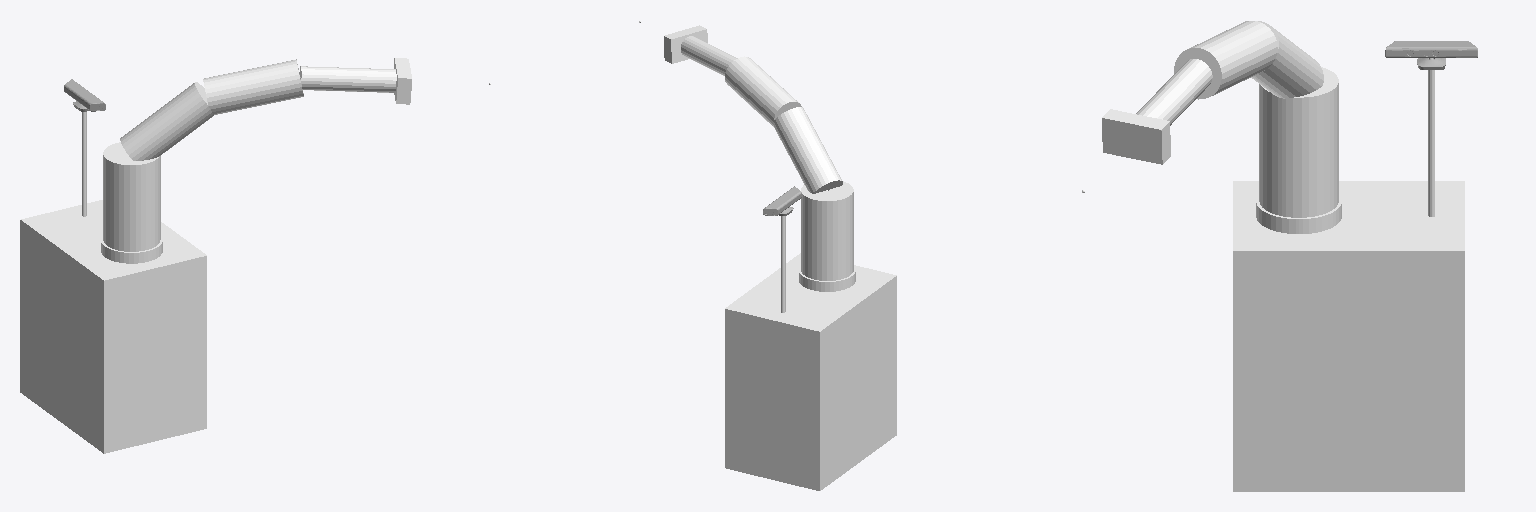
robot.urdf — cougarbot_sw2urdf:
<robot
  name="cougarbot_sw2urdf">
  <link
    name="base">
    <inertial>
      <origin
        xyz="-4.58049603537686E-17 -1.1498738469332E-16 0.4"
        rpy="0 0 0" />
      <mass
        value="280" />
      <inertia
        ixx="26.3666666666667"
        ixy="-2.53130849614536E-15"
        ixz="6.697891400224E-32"
        iyy="20.7666666666667"
        iyz="2.51650552248369E-16"
        izz="17.2666666666667" />
    </inertial>
    <visual>
      <origin
        xyz="0 0 0"
        rpy="0 0 0" />
      <geometry>
        <mesh
          filename="package://cougarbot_sw2urdf/meshes/base.STL" />
      </geometry>
      <material
        name="">
        <color
          rgba="1 1 1 1" />
      </material>
    </visual>
    <collision>
      <origin
        xyz="0 0 0"
        rpy="0 0 0" />
      <geometry>
        <mesh
          filename="package://cougarbot_sw2urdf/meshes/base.STL" />
      </geometry>
    </collision>
  </link>
  <link
    name="rack">
    <inertial>
      <origin
        xyz="-5.31932292919011E-19 0 0.25"
        rpy="0 0 0" />
      <mass
        value="0.15707963267949" />
      <inertia
        ixx="0.00327641933830635"
        ixy="0"
        ixz="-2.52757298433515E-52"
        iyy="0.00327641933830635"
        iyz="-7.588784500269E-37"
        izz="7.85398163397448E-06" />
    </inertial>
    <visual>
      <origin
        xyz="0 0 0"
        rpy="0 0 0" />
      <geometry>
        <mesh
          filename="package://cougarbot_sw2urdf/meshes/rack.STL" />
      </geometry>
      <material
        name="">
        <color
          rgba="1 1 1 1" />
      </material>
    </visual>
    <collision>
      <origin
        xyz="0 0 0"
        rpy="0 0 0" />
      <geometry>
        <mesh
          filename="package://cougarbot_sw2urdf/meshes/rack.STL" />
      </geometry>
    </collision>
  </link>
  <joint
    name="fixed_rack"
    type="fixed">
    <origin
      xyz="0 0.25 0.8"
      rpy="0 0 0" />
    <parent
      link="base" />
    <child
      link="rack" />
    <axis
      xyz="0 0 0" />
  </joint>
  <link
    name="camera">
    <inertial>
      <origin
        xyz="-0.0294947233503947 5.82991399987742E-05 -0.00210745084696717"
        rpy="0 0 0" />
      <mass
        value="0.558921619084291" />
      <inertia
        ixx="0.00293323328134704"
        ixy="-9.33465490301262E-07"
        ixz="-5.72128548880662E-06"
        iyy="0.000231766967567304"
        iyz="-6.72424296962743E-08"
        izz="0.00302678311799815" />
    </inertial>
    <visual>
      <origin
        xyz="0 0 0"
        rpy="0 0 0" />
      <geometry>
        <mesh
          filename="package://cougarbot_sw2urdf/meshes/camera.STL" />
      </geometry>
      <material
        name="">
        <color
          rgba="0.752941176470588 0.752941176470588 0.752941176470588 1" />
      </material>
    </visual>
    <collision>
      <origin
        xyz="0 0 0"
        rpy="0 0 0" />
      <geometry>
        <mesh
          filename="package://cougarbot_sw2urdf/meshes/camera.STL" />
      </geometry>
    </collision>
  </link>
  <joint
    name="camera_joint"
    type="fixed">
    <origin
      xyz="0.026845 0 0.5535"
      rpy="-2.841E-17 0 0" />
    <parent
      link="rack" />
    <child
      link="camera" />
    <axis
      xyz="0 0 0" />
  </joint>
  <link
    name="camera_rgbd_frame" />
  <joint
    name="camera_rgbd_frame_joint"
    type="fixed">
    <origin
      xyz="0 0 0"
      rpy="-1.5708 2.841E-17 -1.5708" />
    <parent
      link="camera" />
    <child
      link="camera_rgbd_frame" />
    <axis
      xyz="0 0 0" />
  </joint>
  <link
    name="base_link">
    <inertial>
      <origin
        xyz="1.55035718607044E-18 -2.77555756156289E-17 0.025"
        rpy="0 0 0" />
      <mass
        value="2.65464579228338" />
      <inertia
        ixx="0.011768929679123"
        ixy="-3.85185988877447E-34"
        ixz="0"
        iyy="0.011768929679123"
        iyz="0"
        izz="0.0224317569447945" />
    </inertial>
    <visual>
      <origin
        xyz="0 0 0"
        rpy="0 0 0" />
      <geometry>
        <mesh
          filename="package://cougarbot_sw2urdf/meshes/base_link.STL" />
      </geometry>
      <material
        name="">
        <color
          rgba="1 1 1 1" />
      </material>
    </visual>
    <collision>
      <origin
        xyz="0 0 0"
        rpy="0 0 0" />
      <geometry>
        <mesh
          filename="package://cougarbot_sw2urdf/meshes/base_link.STL" />
      </geometry>
    </collision>
  </link>
  <joint
    name="fixed_base"
    type="fixed">
    <origin
      xyz="0 -0.15 0.8"
      rpy="0 0 -2.22044604925031E-16" />
    <parent
      link="base" />
    <child
      link="base_link" />
    <axis
      xyz="0 0 0" />
  </joint>
  <link
    name="torso">
    <inertial>
      <origin
        xyz="3.35686345799579E-19 0 0.2"
        rpy="0 0 0" />
      <mass
        value="18.0938065388096" />
      <inertia
        ixx="0.306349903760852"
        ixy="-3.94357854772437E-09"
        ixz="-1.16008335330836E-17"
        iyy="0.306349897413123"
        iyz="5.75130931311888E-18"
        izz="0.130288090952972" />
    </inertial>
    <visual>
      <origin
        xyz="0 0 0"
        rpy="0 0 0" />
      <geometry>
        <mesh
          filename="package://cougarbot_sw2urdf/meshes/torso.STL" />
      </geometry>
      <material
        name="">
        <color
          rgba="1 1 1 1" />
      </material>
    </visual>
    <collision>
      <origin
        xyz="0 0 0"
        rpy="0 0 0" />
      <geometry>
        <mesh
          filename="package://cougarbot_sw2urdf/meshes/torso.STL" />
      </geometry>
    </collision>
  </link>
  <joint
    name="hip"
    type="revolute">
    <origin
      xyz="0 0 0.05"
      rpy="0 0 0" />
    <parent
      link="base_link" />
    <child
      link="torso" />
    <axis
      xyz="0 0 1" />
    <limit
      lower="-1.57"
      upper="1.57"
      effort="0"
      velocity="0" />
  </joint>
  <link
    name="upper_arm">
    <inertial>
      <origin
        xyz="-1.11022302462516E-16 -2.77555756156289E-17 0.2"
        rpy="0 0 0" />
      <mass
        value="8.04071004732223" />
      <inertia
        ixx="0.120032517340225"
        ixy="0"
        ixz="8.67361737988404E-19"
        iyy="0.120032507215952"
        iyz="1.04083408558608E-17"
        izz="0.0257358874415033" />
    </inertial>
    <visual>
      <origin
        xyz="0 0 0"
        rpy="0 0 0" />
      <geometry>
        <mesh
          filename="package://cougarbot_sw2urdf/meshes/upper_arm.STL" />
      </geometry>
      <material
        name="">
        <color
          rgba="1 1 1 1" />
      </material>
    </visual>
    <collision>
      <origin
        xyz="0 0 0"
        rpy="0 0 0" />
      <geometry>
        <mesh
          filename="package://cougarbot_sw2urdf/meshes/upper_arm.STL" />
      </geometry>
    </collision>
  </link>
  <joint
    name="shoulder"
    type="revolute">
    <origin
      xyz="0 0 0.4"
      rpy="-7.6374E-16 0.90484 -0.44656" />
    <parent
      link="torso" />
    <child
      link="upper_arm" />
    <axis
      xyz="0 1 0" />
    <limit
      lower="-1.57"
      upper="1.57"
      effort="0"
      velocity="0" />
  </joint>
  <link
    name="lower_arm">
    <inertial>
      <origin
        xyz="2.22044604925031E-16 -1.11022302462516E-16 0.2"
        rpy="0 0 0" />
      <mass
        value="8.04071004732222" />
      <inertia
        ixx="0.120032517340225"
        ixy="3.46944695195361E-18"
        ixz="-2.10335221462188E-17"
        iyy="0.120032507215952"
        iyz="8.67361737988404E-18"
        izz="0.0257358874415032" />
    </inertial>
    <visual>
      <origin
        xyz="0 0 0"
        rpy="0 0 0" />
      <geometry>
        <mesh
          filename="package://cougarbot_sw2urdf/meshes/lower_arm.STL" />
      </geometry>
      <material
        name="">
        <color
          rgba="1 1 1 1" />
      </material>
    </visual>
    <collision>
      <origin
        xyz="0 0 0"
        rpy="0 0 0" />
      <geometry>
        <mesh
          filename="package://cougarbot_sw2urdf/meshes/lower_arm.STL" />
      </geometry>
    </collision>
  </link>
  <joint
    name="elbow"
    type="revolute">
    <origin
      xyz="0 0 0.4"
      rpy="-8.7527E-16 0.47803 4.8453E-16" />
    <parent
      link="upper_arm" />
    <child
      link="lower_arm" />
    <axis
      xyz="0 1 0" />
    <limit
      lower="-1.57"
      upper="1.57"
      effort="0"
      velocity="0" />
  </joint>
  <link
    name="hand">
    <inertial>
      <origin
        xyz="2.22044604925031E-16 -5.55111512312578E-17 0.200055370326349"
        rpy="0 0 0" />
      <mass
        value="3.14070908065597" />
      <inertia
        ixx="0.0438171501216372"
        ixy="6.50521303491303E-19"
        ixz="-2.72405795836983E-18"
        iyy="0.0438171450595006"
        iyz="-1.0842021724855E-19"
        izz="0.00392697102863508" />
    </inertial>
    <visual>
      <origin
        xyz="0 0 0"
        rpy="0 0 0" />
      <geometry>
        <mesh
          filename="package://cougarbot_sw2urdf/meshes/hand.STL" />
      </geometry>
      <material
        name="">
        <color
          rgba="1 1 1 1" />
      </material>
    </visual>
    <collision>
      <origin
        xyz="0 0 0"
        rpy="0 0 0" />
      <geometry>
        <mesh
          filename="package://cougarbot_sw2urdf/meshes/hand.STL" />
      </geometry>
    </collision>
  </link>
  <joint
    name="wrist"
    type="revolute">
    <origin
      xyz="0 0 0.4"
      rpy="1.78E-15 0.25851 3.0504E-16" />
    <parent
      link="lower_arm" />
    <child
      link="hand" />
    <axis
      xyz="0 1 0" />
    <limit
      lower="-1.57"
      upper="1.57"
      effort="0"
      velocity="0" />
  </joint>
  <link
    name="hood">
    <inertial>
      <origin
        xyz="4.44089209850063E-16 -5.55111512312578E-17 0.0299999999999998"
        rpy="0 0 0" />
      <mass
        value="1.44" />
      <inertia
        ixx="0.005232"
        ixy="1.28749007982654E-19"
        ixz="2.71050543121376E-19"
        iyy="0.00216"
        iyz="-1.0842021724855E-19"
        izz="0.006528" />
    </inertial>
    <visual>
      <origin
        xyz="0 0 0"
        rpy="0 0 0" />
      <geometry>
        <mesh
          filename="package://cougarbot_sw2urdf/meshes/hood.STL" />
      </geometry>
      <material
        name="">
        <color
          rgba="1 1 1 1" />
      </material>
    </visual>
    <collision>
      <origin
        xyz="0 0 0"
        rpy="0 0 0" />
      <geometry>
        <mesh
          filename="package://cougarbot_sw2urdf/meshes/hood.STL" />
      </geometry>
    </collision>
  </link>
  <joint
    name="fixed_hood"
    type="fixed">
    <origin
      xyz="0 0 0.4"
      rpy="3.3307E-16 2.2898E-16 3.8164E-17" />
    <parent
      link="hand" />
    <child
      link="hood" />
    <axis
      xyz="0 0 0" />
  </joint>
  <link
    name="virtual_frame">
    <inertial>
      <origin
        xyz="0 0 0"
        rpy="0 0 0" />
      <mass
        value="0.000523598775598299" />
      <inertia
        ixx="5.23598775598299E-09"
        ixy="-1.29246970711411E-26"
        ixz="-7.75481824268463E-26"
        iyy="5.23598775598299E-09"
        iyz="0"
        izz="5.23598775598299E-09" />
    </inertial>
    <visual>
      <origin
        xyz="0 0 0"
        rpy="0 0 0" />
      <geometry>
        <mesh
          filename="package://cougarbot_sw2urdf/meshes/virtual_frame.STL" />
      </geometry>
      <material
        name="">
        <color
          rgba="1 1 1 1" />
      </material>
    </visual>
    <collision>
      <origin
        xyz="0 0 0"
        rpy="0 0 0" />
      <geometry>
        <mesh
          filename="package://cougarbot_sw2urdf/meshes/virtual_frame.STL" />
      </geometry>
    </collision>
  </link>
  <joint
    name="virtual_frame_joint"
    type="fixed">
    <origin
      xyz="0 0 0.4"
      rpy="0 6.93889390390723E-18 0" />
    <parent
      link="hood" />
    <child
      link="virtual_frame" />
    <axis
      xyz="0 0 0" />
  </joint>
</robot>

--- What the picture shows (computed from the rendered views, not written in the file) ---
The picture shows the robot from 3 angles, left to right: view 1: azimuth 30°, elevation 25°; view 2: azimuth 150°, elevation 25°; view 3: azimuth 270°, elevation 25°; orthographic projection.
Model cougarbot_sw2urdf with 11 links and 10 joints (4 revolute, 6 fixed), rooted at base, posed every joint at zero.
Visible links, largest first — view 1: base, torso, lower_arm, upper_arm, hand, base_link, camera, hood; view 2: base, torso, upper_arm, lower_arm, hand, hood, base_link, camera; view 3: base, torso, lower_arm, hood, upper_arm, hand, camera, base_link, rack.
Link boxes in pixels (left/top/right/bottom): base: left=20, top=200, right=206, bottom=453; torso: left=103, top=142, right=160, bottom=251; lower_arm: left=203, top=59, right=303, bottom=114; upper_arm: left=120, top=82, right=213, bottom=160; hand: left=299, top=66, right=396, bottom=92; base_link: left=101, top=236, right=162, bottom=263; camera: left=64, top=79, right=105, bottom=111; hood: left=394, top=58, right=411, bottom=104; base: left=725, top=253, right=896, bottom=490; torso: left=801, top=181, right=853, bottom=280; upper_arm: left=773, top=107, right=842, bottom=193; lower_arm: left=725, top=56, right=801, bottom=126; hand: left=681, top=36, right=737, bottom=75; hood: left=664, top=25, right=707, bottom=63; base_link: left=799, top=266, right=855, bottom=291; camera: left=763, top=186, right=801, bottom=215; base: left=1233, top=181, right=1464, bottom=491; torso: left=1259, top=67, right=1338, bottom=217; lower_arm: left=1174, top=21, right=1277, bottom=99; hood: left=1102, top=109, right=1170, bottom=164; upper_arm: left=1251, top=21, right=1323, bottom=98; hand: left=1136, top=59, right=1212, bottom=125; camera: left=1385, top=41, right=1477, bottom=69; base_link: left=1256, top=195, right=1341, bottom=233; rack: left=1428, top=70, right=1434, bottom=216.
Bounding box of the posed robot: 1.61 × 1.19 × 1.65 m (x, y, z).
Meshes: 10 distinct files referenced, 10 mesh visuals loaded (10 binary STL).